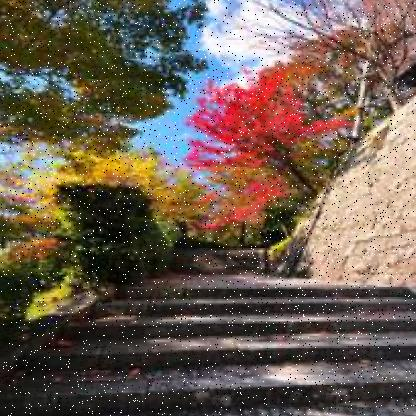stair_up: (62, 279, 350, 416)
